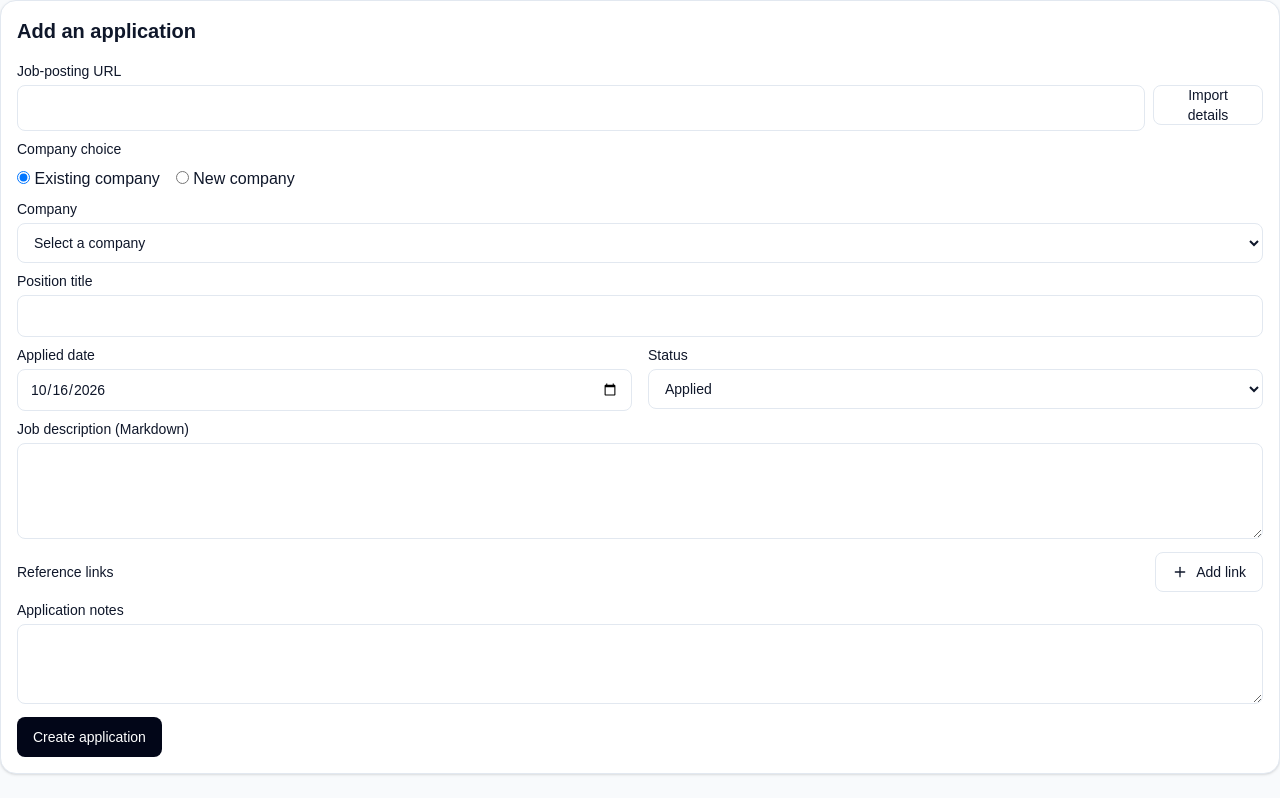
Test case: CreateApplicationForm › handles imported company New Company using new mode and clears missing posting fields
Click the radio button labelled "New company": coordinates (182, 178) [176,171,189,184]
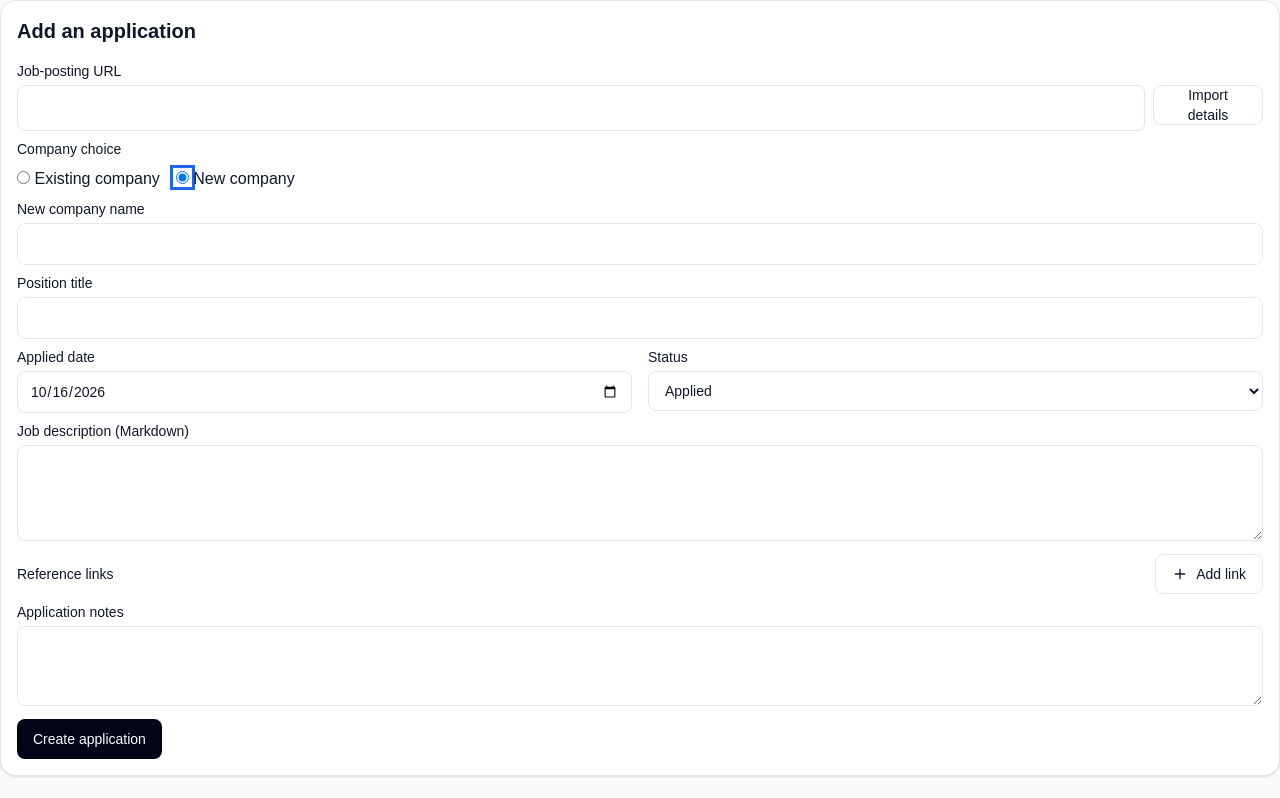
In the field labelled "New company name": coordinates (640, 244) [17,223,1263,265], type "Stale"
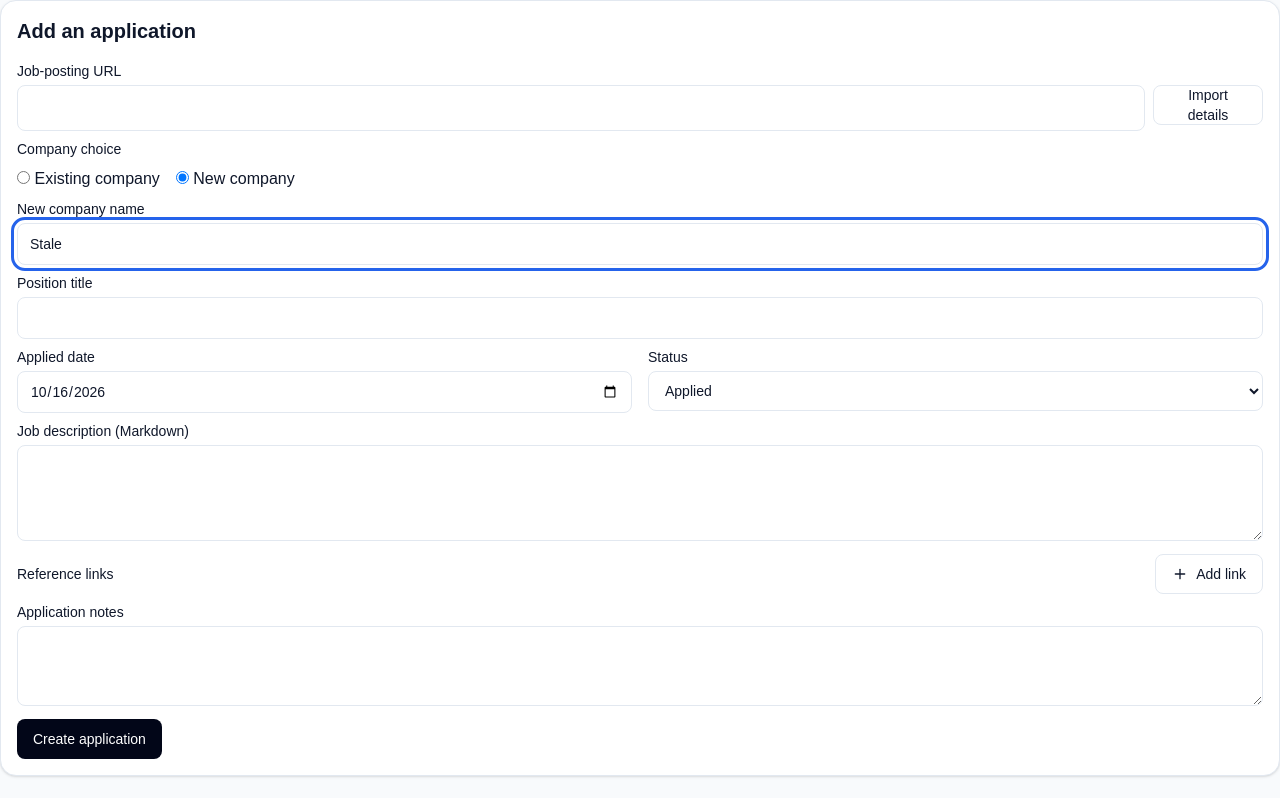
In the field labelled "Position title": coordinates (640, 318) [17,297,1263,339], type "Stale"
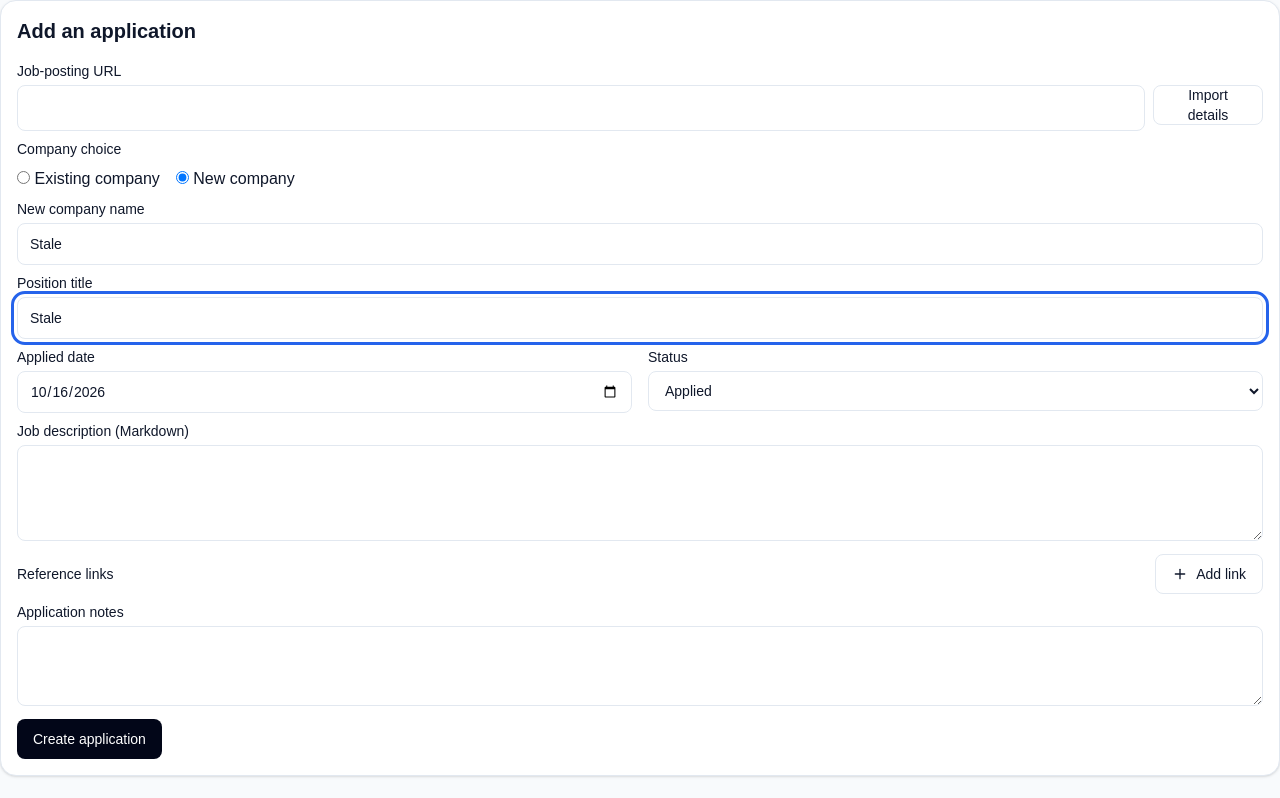
In the text box labelled "Job description (Markdown)": coordinates (640, 493) [17,445,1263,541], type "Stale"
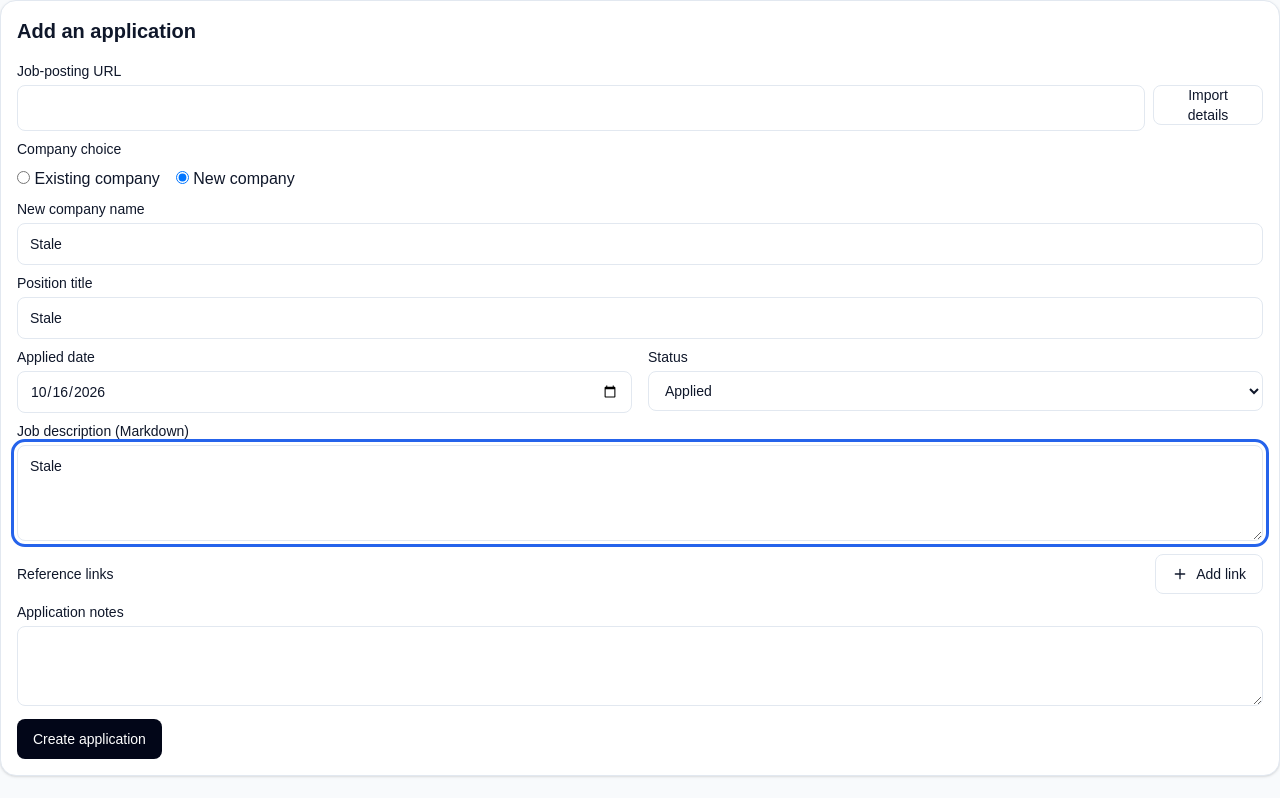
In the field labelled "Job-posting URL": coordinates (581, 108) [17,85,1145,131], type "https://example.com/job"
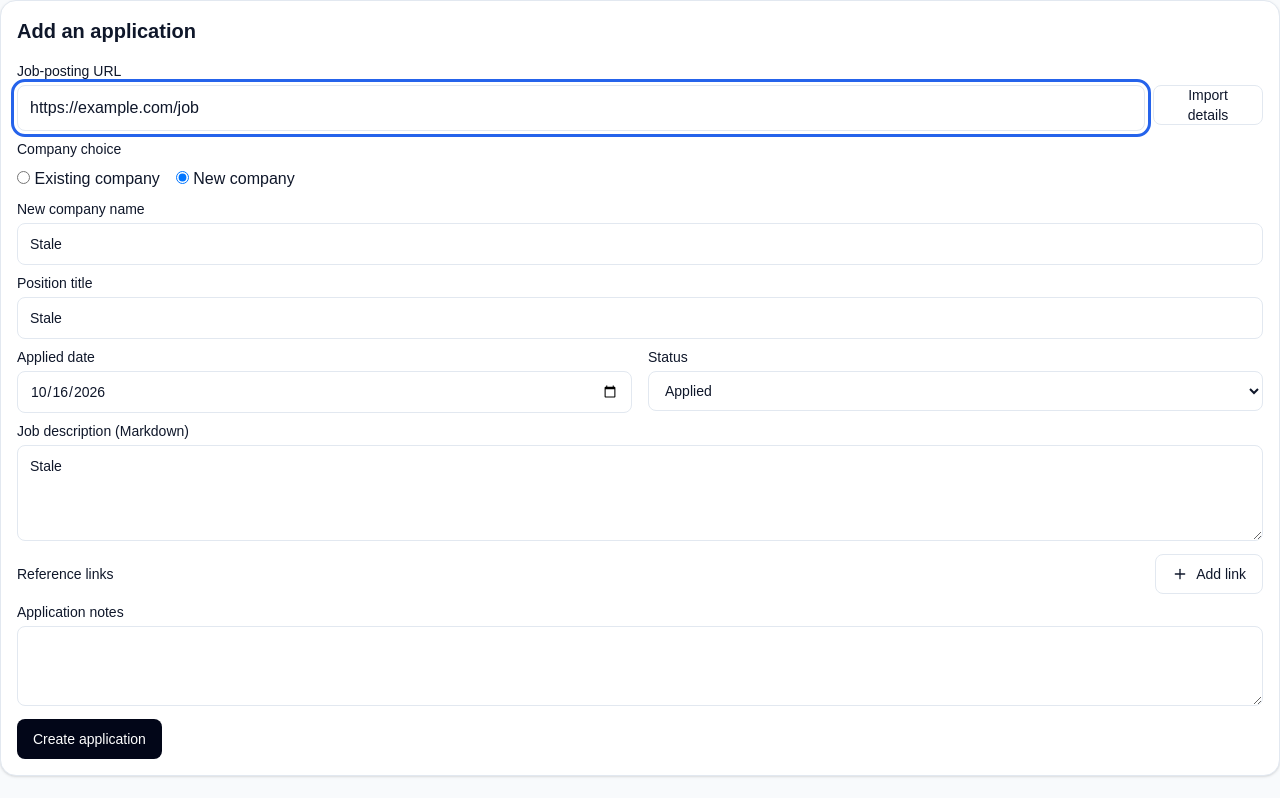
Click the button "Import details": coordinates (1208, 105) [1153,85,1263,125]
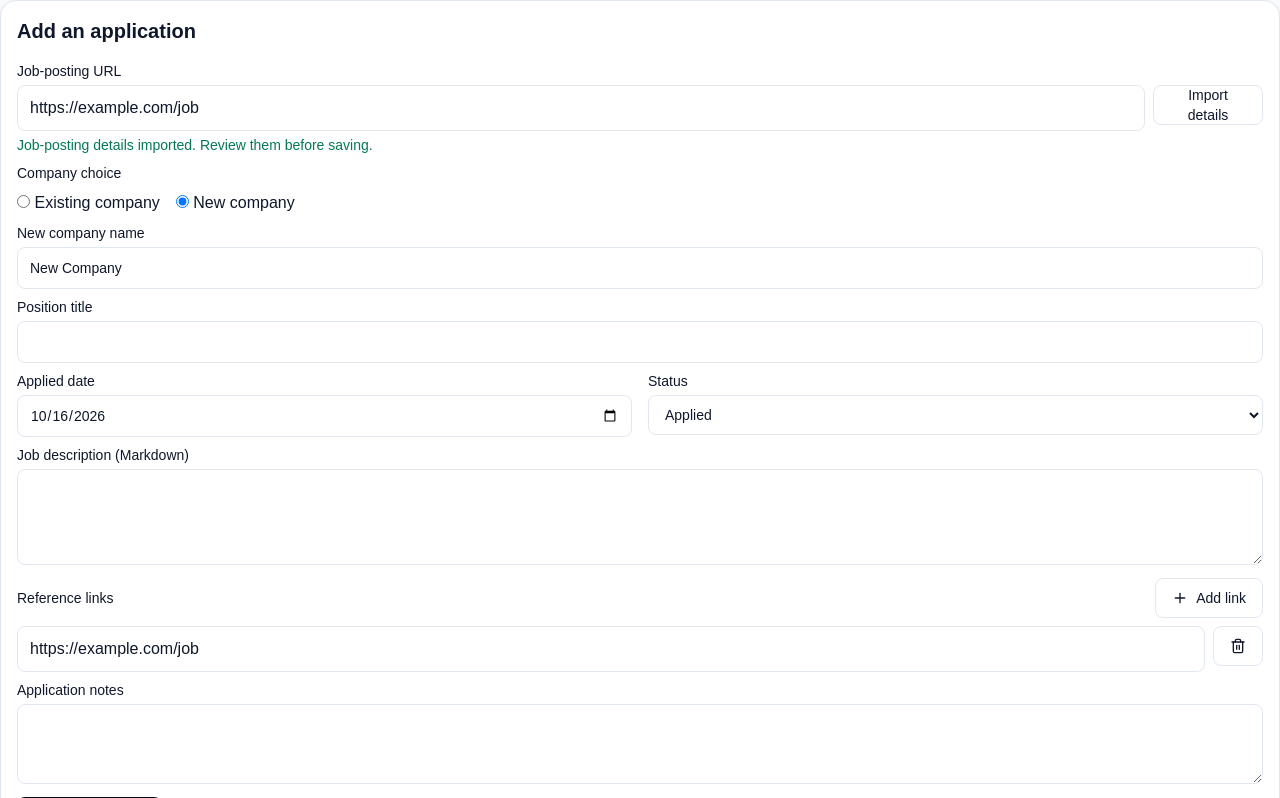
Check: the radio button labelled "New company" is checked, box [176,195,189,208]
Check: the text "Job-posting details imported. Review them before saving." is shown, box [17,137,373,153]
Check: the field labelled "New company name" holds "New Company", box [17,247,1263,289]
